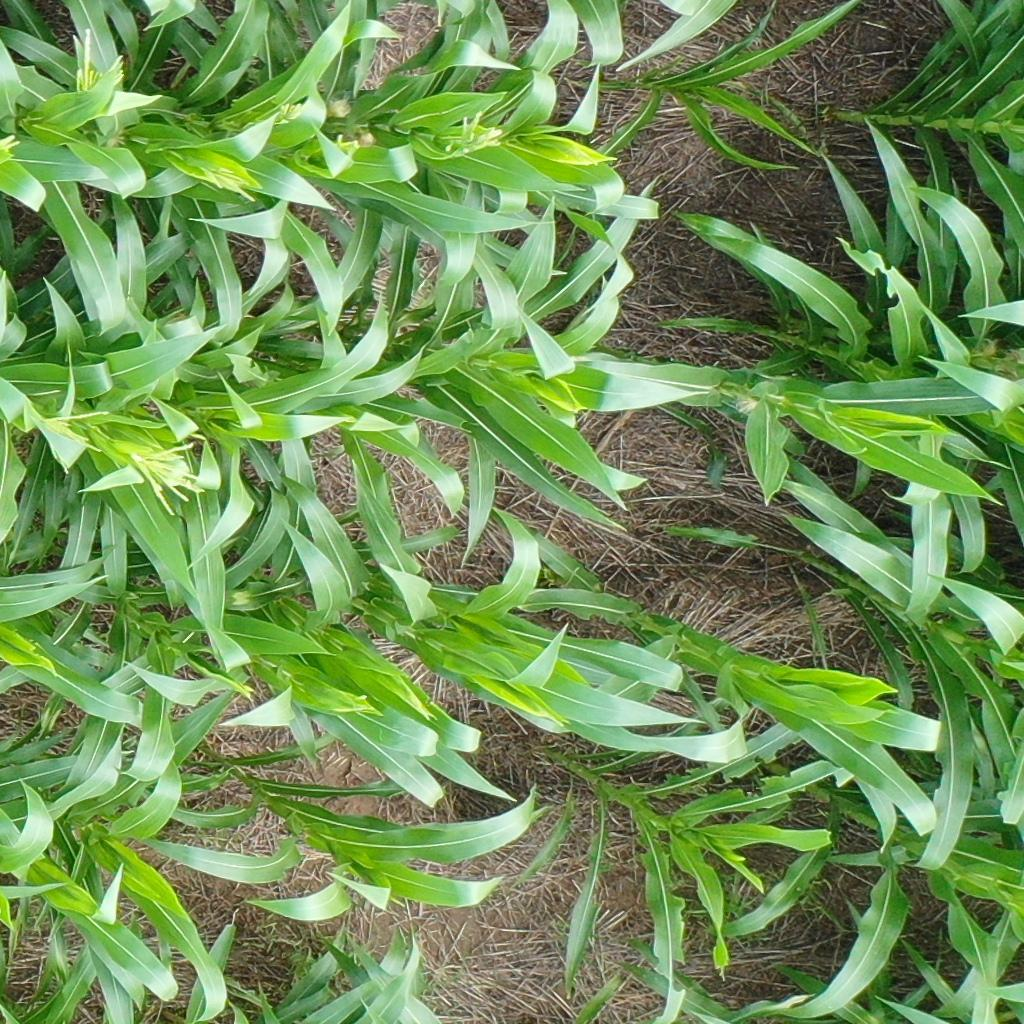Tassel: (126, 442, 207, 519), (71, 24, 127, 96), (29, 407, 112, 454), (195, 160, 262, 203), (444, 112, 503, 156), (331, 134, 365, 159), (1, 129, 23, 167), (273, 101, 301, 127)
